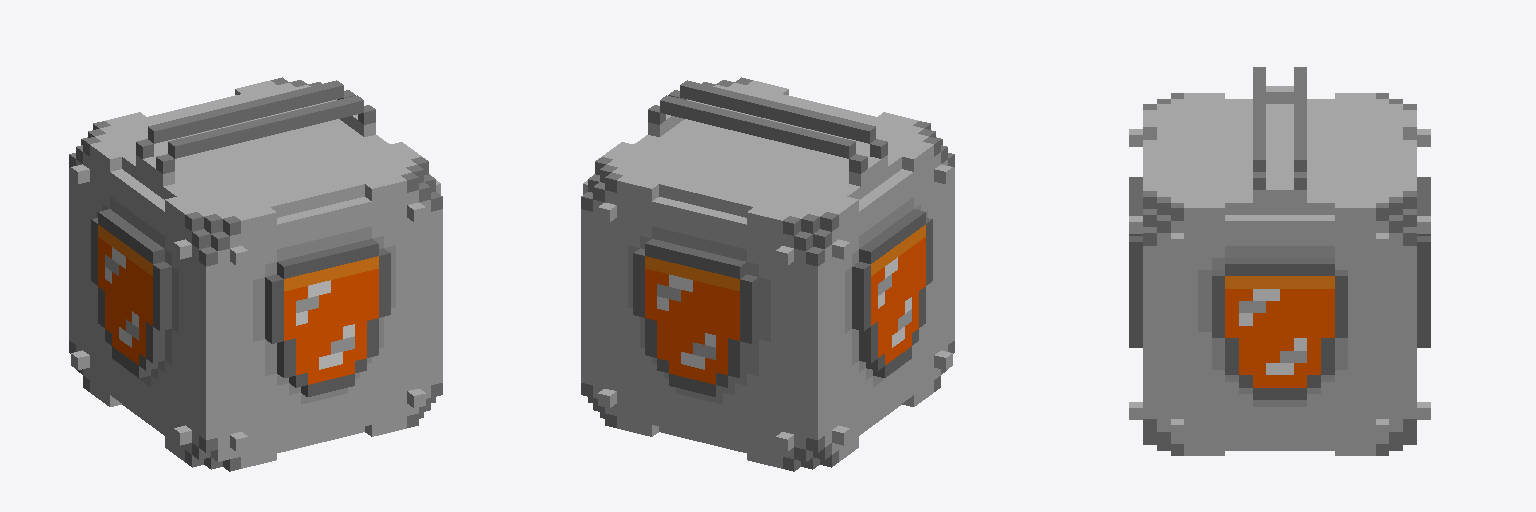
The picture shows the model from 3 angles: view 1: azimuth 30°, elevation 25°; view 2: azimuth 150°, elevation 25°; view 3: azimuth 270°, elevation 25°; orthographic projection.
Visible parts, largest first — view 1: object 1; view 2: object 1; view 3: object 1.
Boxes of the visible parts, <box> form: object 1: <box>69,77,442,471</box>; object 1: <box>581,77,954,471</box>; object 1: <box>1129,67,1430,455</box>.
Bounding box in the file's own units: 2.2 × 2.3 × 2.2.
Materials: 1 (1 with a texture image).